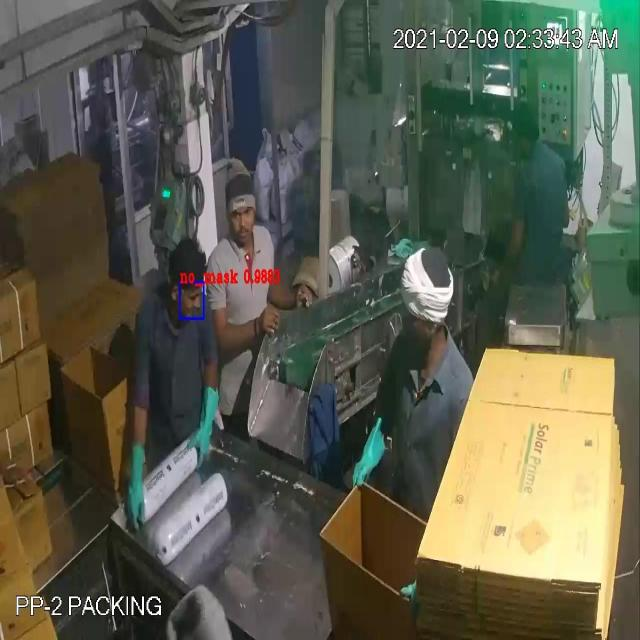gloves: (344, 419, 396, 511), (115, 434, 153, 537), (179, 380, 221, 473)
no-gloves: (478, 202, 530, 301), (211, 292, 283, 362), (258, 267, 316, 321)
